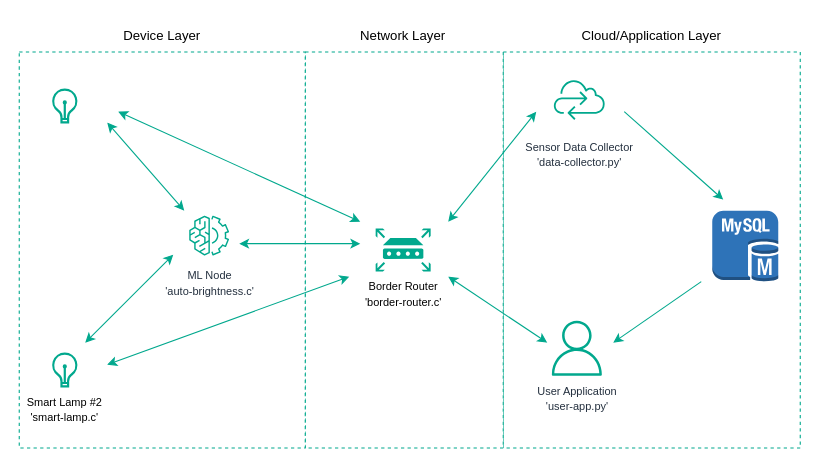
This 820x468 diagram has some shape labels left out. Each missing label, with the centre of its shape:
"MySQL Database" goes at (744,246).
"Smart Lamp #1 'smart-lamp.c'" goes at (64,105).
